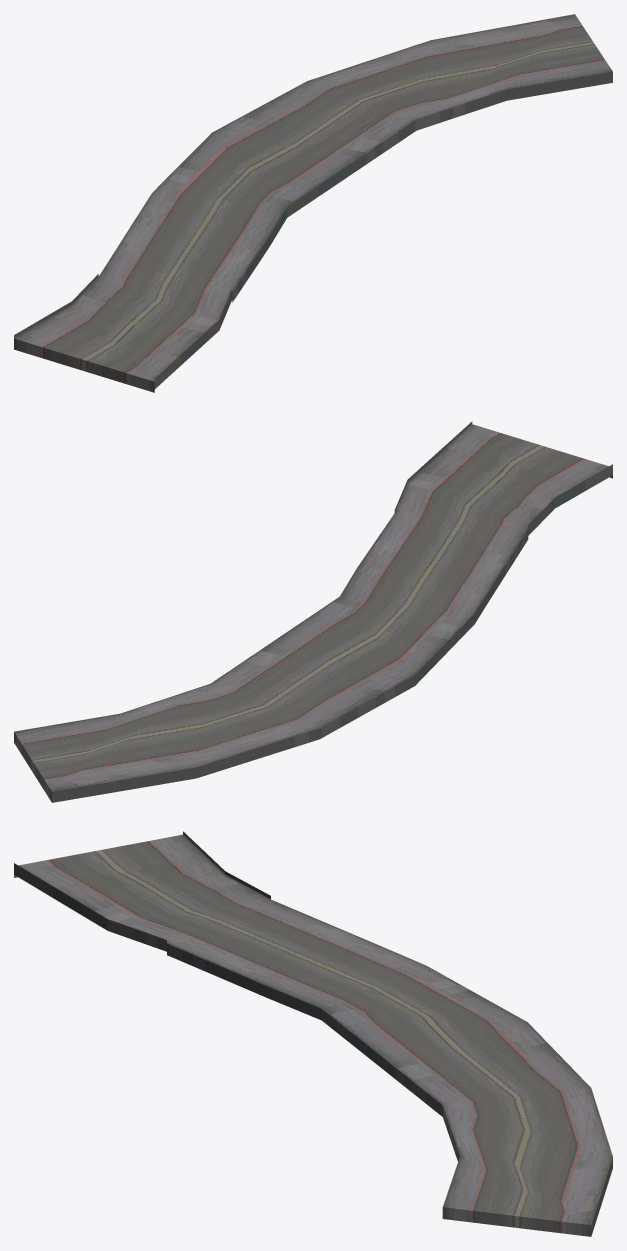
The model's file is lodroads_sfw31.obj.
3 renders of one model, top to bottom at view 1: azimuth 30°, elevation 25°; view 2: azimuth 210°, elevation 25°; view 3: azimuth 270°, elevation 25°, orthographic. The views are drawn at different scales.
Parts seen in each view (by area): view 1: LODroads_sfw31; view 2: LODroads_sfw31; view 3: LODroads_sfw31.
Boxes of the visible parts, x1,y1,x2,y2 form: LODroads_sfw31: [14, 14, 612, 392]; LODroads_sfw31: [14, 421, 612, 802]; LODroads_sfw31: [14, 831, 612, 1236].
Bounding box in the file's own units: 126 × 2.64 × 81.46.
Materials: 1 (1 with a texture image).
